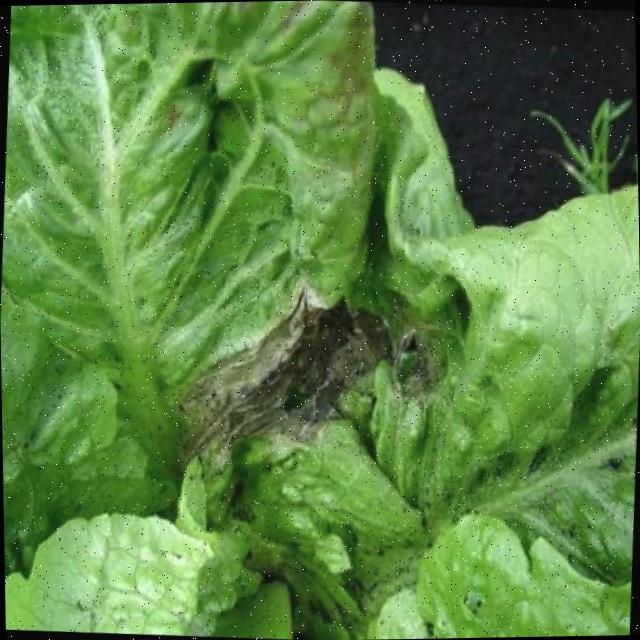Bacterial: (171, 262, 464, 551)
